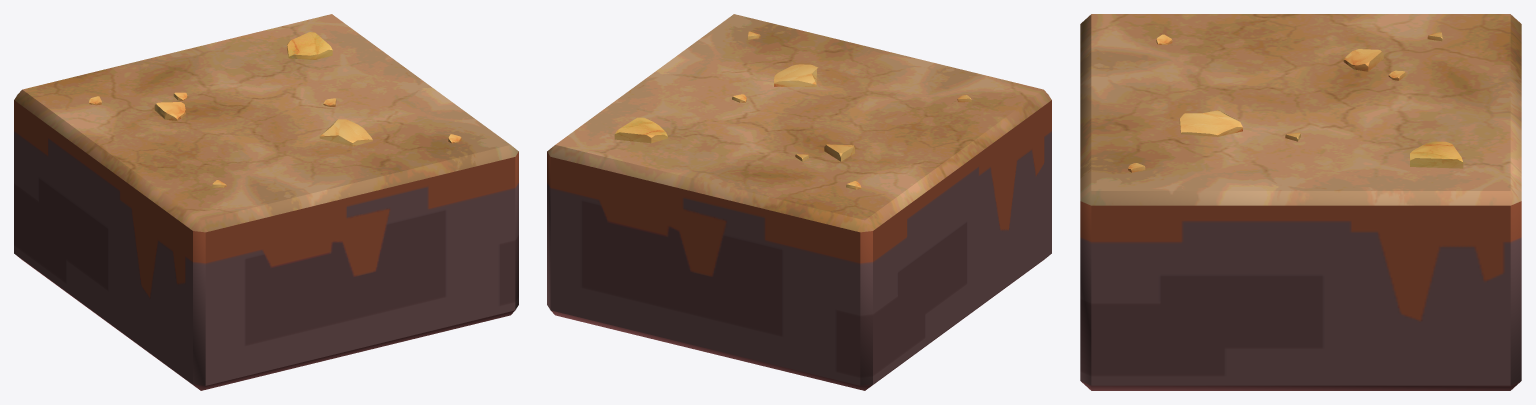
The model's file is tiledesert002.glb.
The picture shows the model from 3 angles, left to right: view 1: azimuth 30°, elevation 25°; view 2: azimuth 150°, elevation 25°; view 3: azimuth 270°, elevation 25°; orthographic projection. The views are drawn at different scales.
Visible parts, largest first — view 1: tiledesert002; view 2: tiledesert002; view 3: tiledesert002.
Part boxes in pixels (left/top/right/bottom): tiledesert002: left=14, top=14, right=518, bottom=390; tiledesert002: left=547, top=14, right=1051, bottom=390; tiledesert002: left=1080, top=14, right=1521, bottom=390.
Size of the model in its own units: 1 by 0.523 by 1.
Materials: 2 (2 with a texture image).
